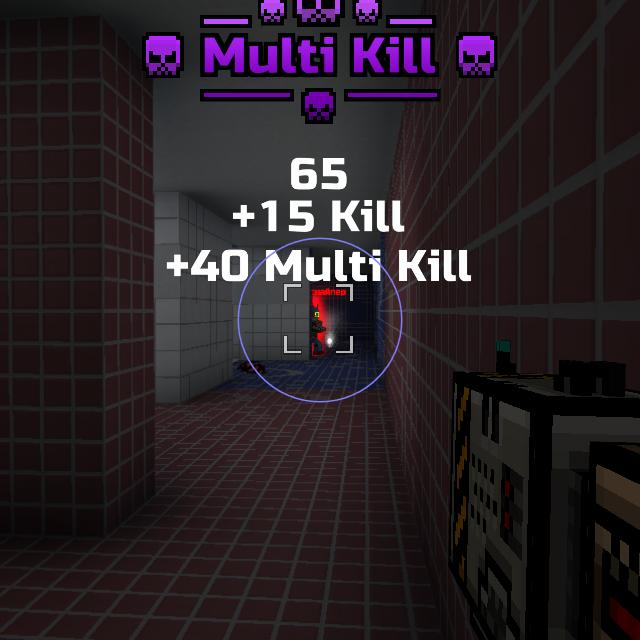Enemy: (312, 304, 325, 355)
